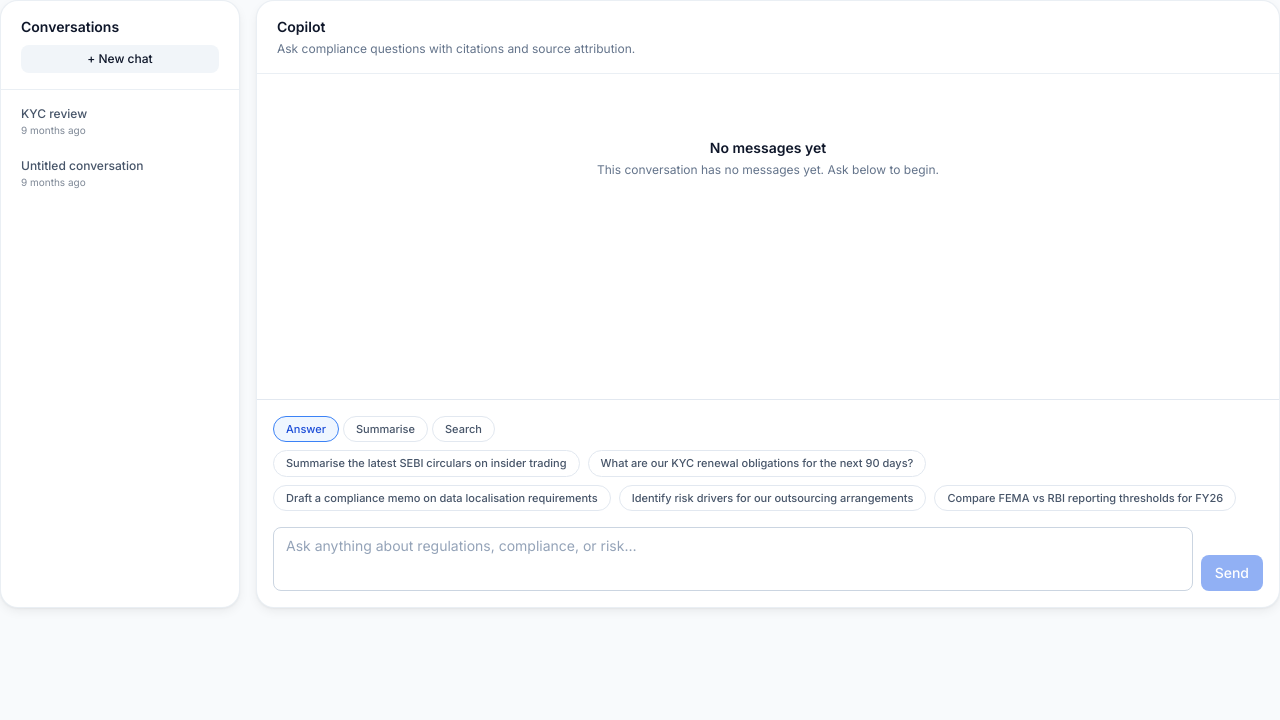
Scenario: answers, citations, signals › memory retrieval hits render when memory was used
The image size is (1280, 720).
Type "What are KYC obligations?" into the text box named "Copilot prompt" at [733, 559], box [273,527,1193,591]
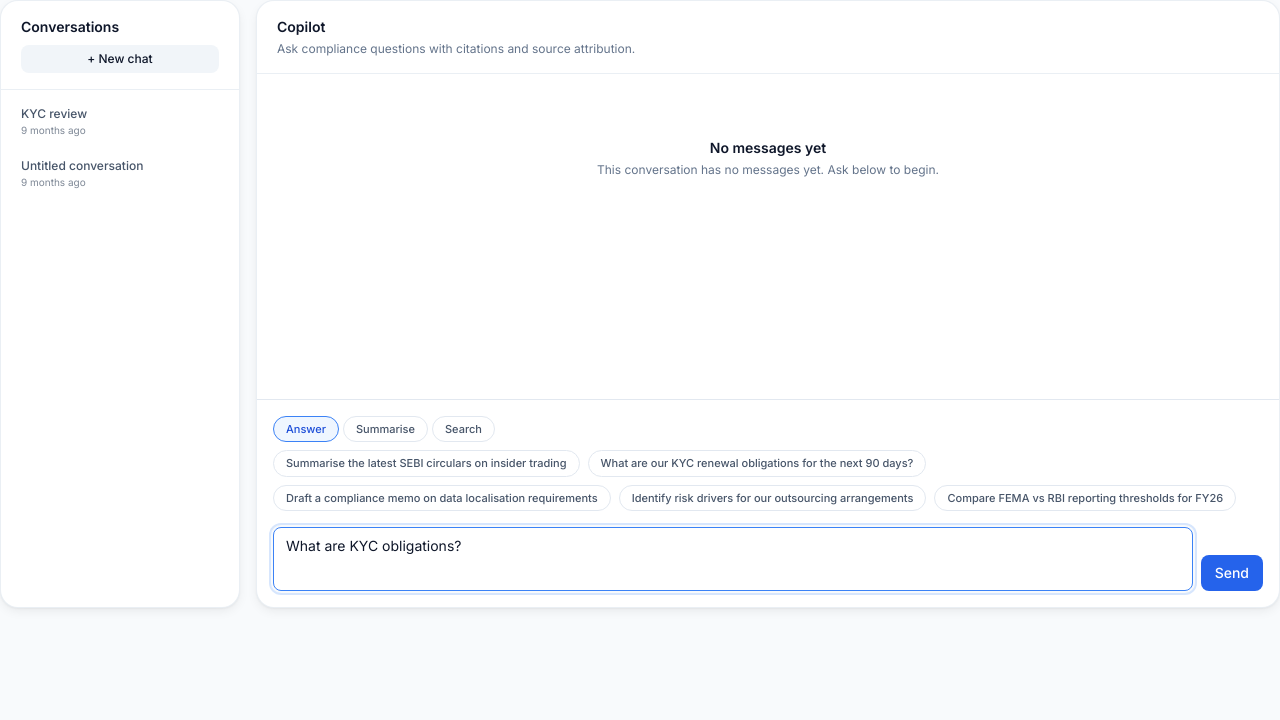
Click the button "Send" at [1232, 573], box [1201,555,1263,591]
(page scrolled)
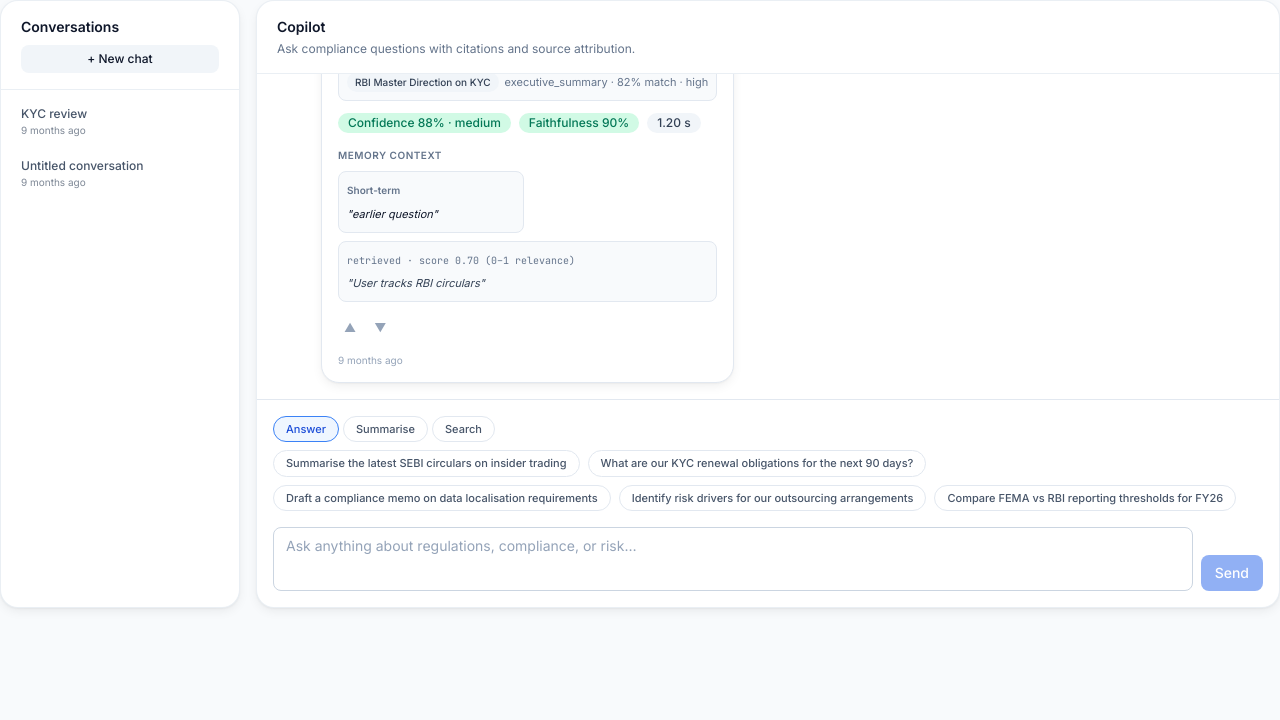
Check: the text "Memory Context" is shown, box [338,148,442,160]
Check: the text "\"User tracks RBI circulars\"" is shown, box [347,276,485,290]
